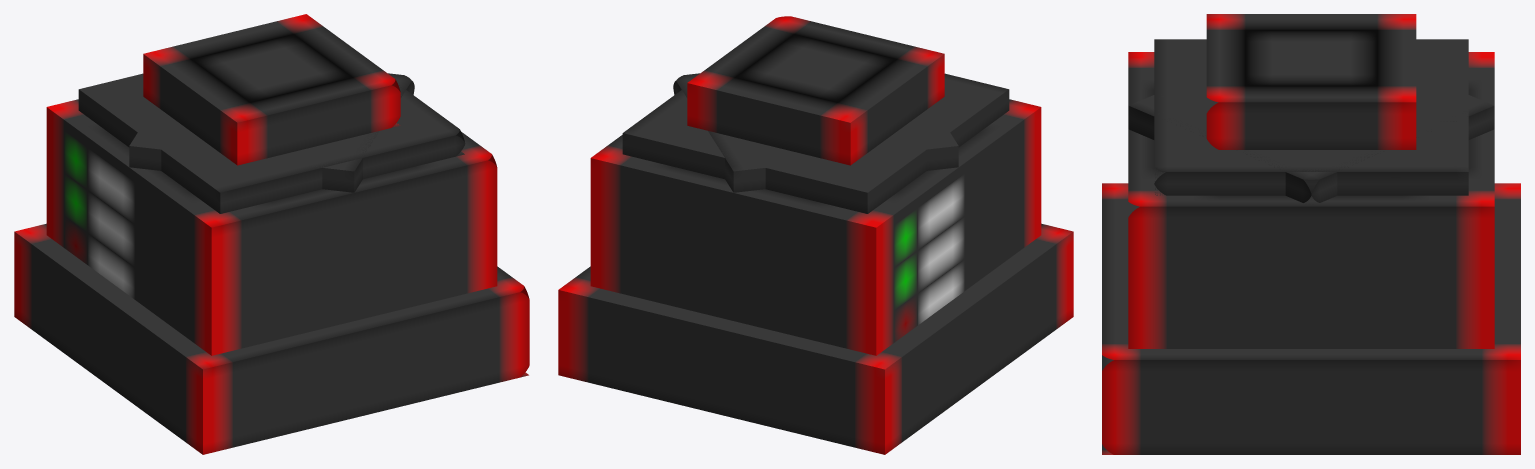
The model's file is radar_station_static.obj.
3 renders of one model, left to right at view 1: azimuth 30°, elevation 25°; view 2: azimuth 150°, elevation 25°; view 3: azimuth 270°, elevation 25°, orthographic. The views are drawn at different scales.
Parts seen in each view (by area): view 1: Main_Base, Main_Base_Outer_Layer, Pivot_Support_3, Pivot_Support_1, Pivot_Support_2_Pivot_Support_1.001; view 2: Main_Base, Main_Base_Outer_Layer, Pivot_Support_3, Pivot_Support_1, Pivot_Support_2_Pivot_Support_1.001; view 3: Main_Base, Main_Base_Outer_Layer, Pivot_Support_3, Pivot_Support_1, Pivot_Support_2_Pivot_Support_1.001.
Part boxes in pixels (x1,y1,x2,y2): Main_Base: (46,99,497,355); Main_Base_Outer_Layer: (14,223,529,454); Pivot_Support_3: (143,14,400,165); Pivot_Support_1: (78,73,465,213); Pivot_Support_2_Pivot_Support_1.001: (129,73,414,192); Main_Base: (590,99,1041,355); Main_Base_Outer_Layer: (558,223,1073,454); Pivot_Support_3: (687,16,944,165); Pivot_Support_1: (622,73,1009,213); Pivot_Support_2_Pivot_Support_1.001: (673,73,958,192); Main_Base: (1128,52,1494,348); Main_Base_Outer_Layer: (1102,183,1520,454); Pivot_Support_3: (1206,14,1416,149); Pivot_Support_1: (1154,39,1468,195); Pivot_Support_2_Pivot_Support_1.001: (1128,75,1494,204).
Size of the model in its own units: 1 by 0.8125 by 1.
